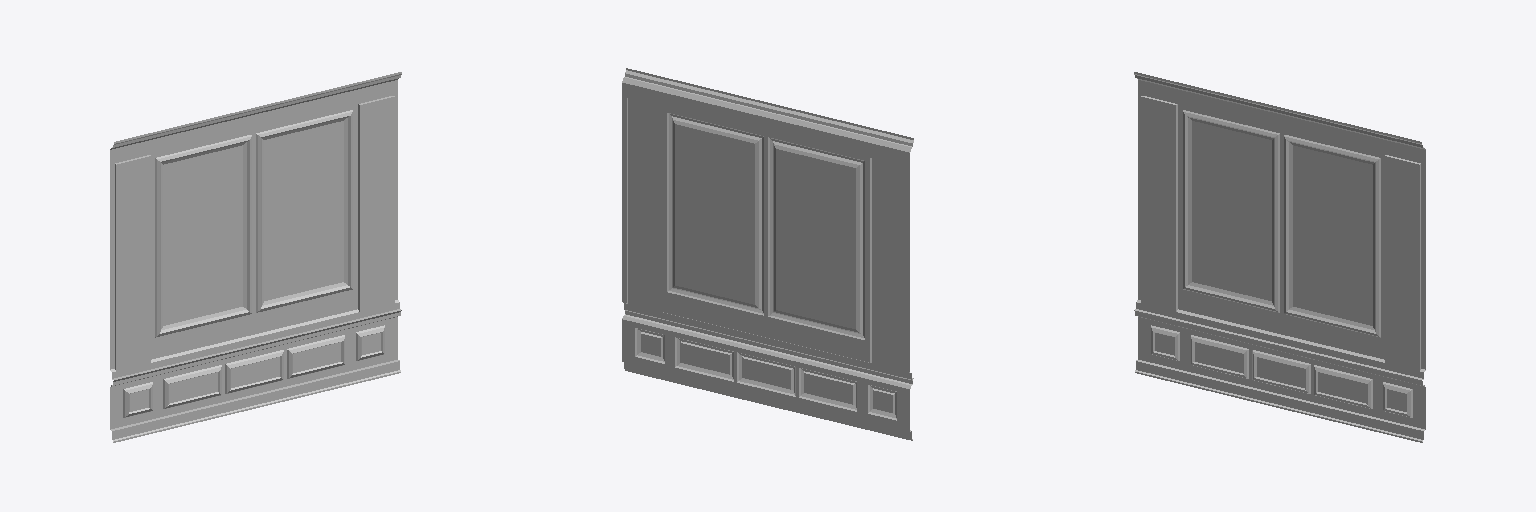
The model's file is Wall_02.obj.
The picture shows the model from 3 angles: view 1: azimuth 30°, elevation 25°; view 2: azimuth 150°, elevation 25°; view 3: azimuth 330°, elevation 25°; orthographic projection.
Parts seen in each view (by area): view 1: Walls_Wall_04; view 2: Walls_Wall_04; view 3: Walls_Wall_04.
Boxes of the visible parts, x1,y1,x2,y2 form: Walls_Wall_04: [110, 72, 401, 442]; Walls_Wall_04: [622, 68, 913, 440]; Walls_Wall_04: [1134, 72, 1425, 442].
Size of the model in its own units: 400 by 401 by 11.56.